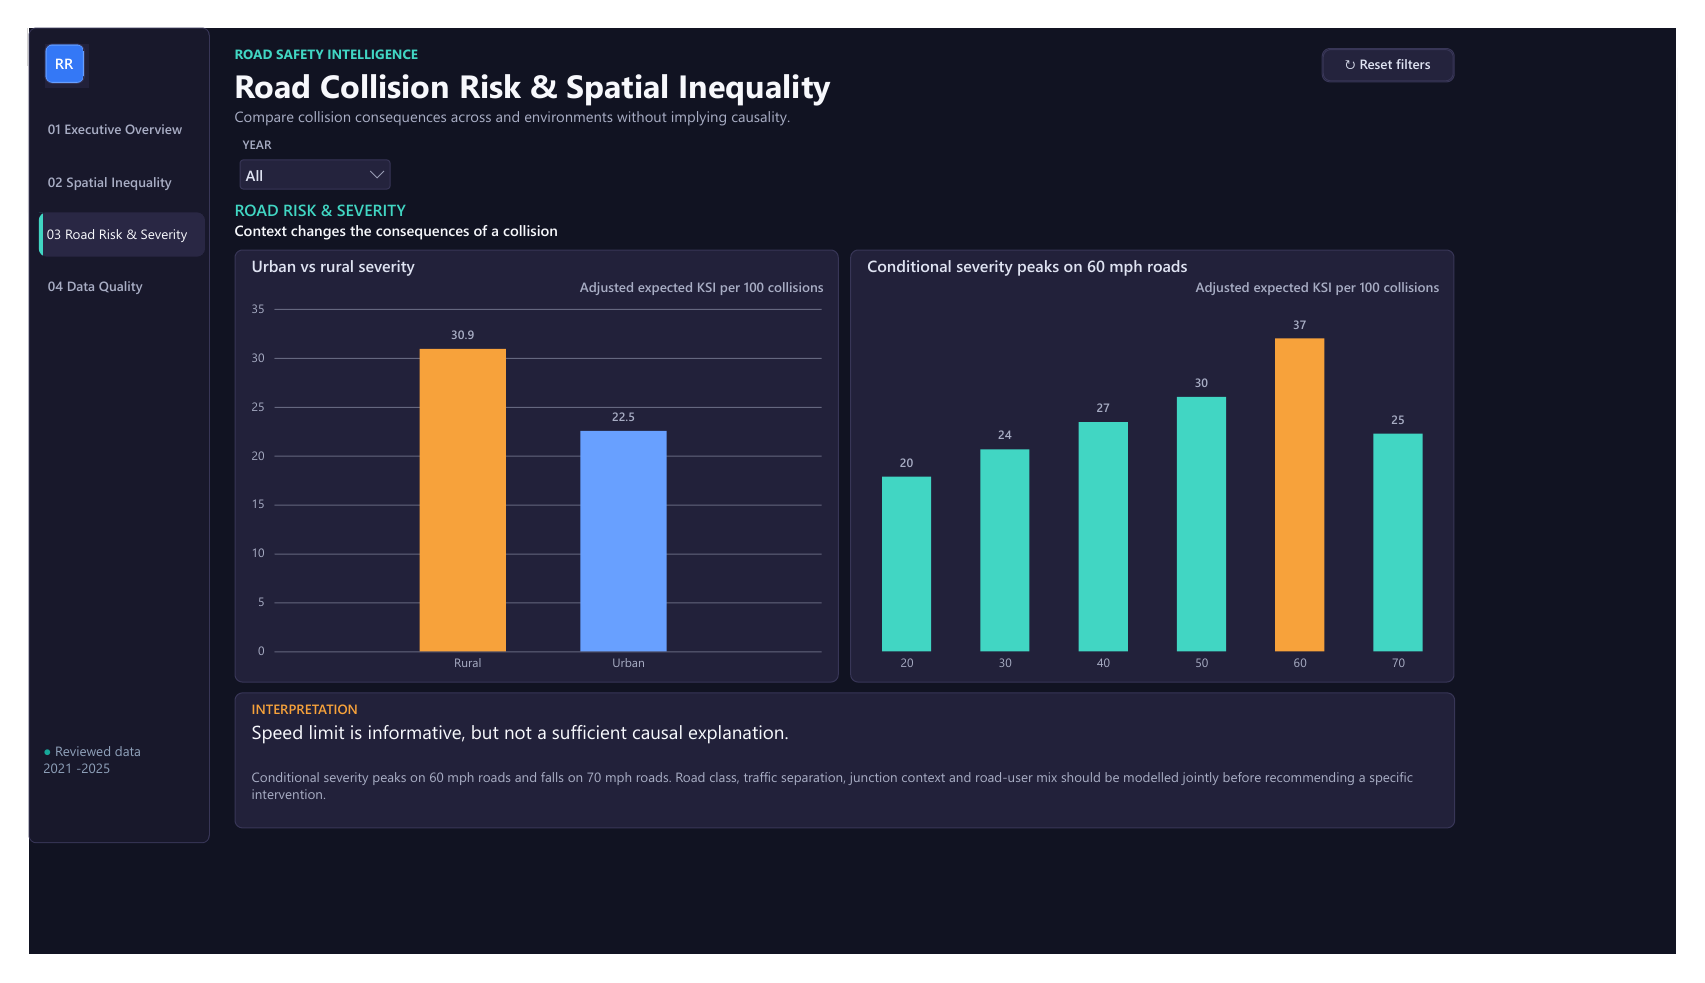

What the dashboard file says about the page in this screenshot:
{"tool":"powerbi","page":{"name":"03 Road Risk & Severity","canvas":[1440,810],"ordinal":2},"visuals":[{"type":"shape","box":[0,0,180,810],"z":0},{"type":"shape","box":[16,16,40,40],"z":1000,"group":"g1"},{"type":"clusteredColumnChart","title":"Urban vs rural severity","fields":{"Category":["fact_collision.urban_or_rural_area_label"],"Y":["_Measures.Adjusted KSI per 100 Collisions"]},"box":[204.5,220.5,600,430],"z":1000},{"type":"textbox","box":[26,26,33.8,34.6],"z":2000,"group":"g1"},{"type":"textbox","box":[15,710,120,50],"z":2000},{"type":"clusteredColumnChart","title":"Conditional severity peaks on 60 mph roads","fields":{"Category":["fact_collision.speed_limit"],"Y":["_Measures.Adjusted KSI per 100 Collisions"]},"box":[815.5,220.5,600,430],"z":3000},{"type":"pageNavigator","box":[10,80,165,200],"z":4000},{"type":"group","id":"g1","title":"Group 7","box":[16,16,43.8,44.6],"z":5000},{"type":"actionButton","title":"Reset filters","box":[1284,20,132,34],"z":6000},{"type":"textbox","box":[204,18,700,85],"z":7000},{"type":"slicer","fields":{"Values":["dim_year.year_label"]},"box":[204,108,160,54],"z":8000},{"type":"textbox","box":[204,170,700,70],"z":9000},{"type":"shape","title":"INTERPRETATION","box":[204,660,1212,135],"z":11000}]}

Visuals, with their boxes in screenshot pixels (x1, y1, x2, y2), scaled from the page's 1440x810 canvas onto the 1705x983 screenshot:
shape: rect(0, 0, 213, 982)
shape: rect(19, 19, 66, 68)
"Urban vs rural severity" clusteredColumnChart: rect(242, 268, 953, 789)
textbox: rect(31, 32, 71, 74)
textbox: rect(18, 862, 160, 922)
"Conditional severity peaks on 60 mph roads" clusteredColumnChart: rect(966, 268, 1676, 789)
pageNavigator: rect(12, 97, 207, 340)
"Group 7" group: rect(19, 19, 71, 74)
"Reset filters" actionButton: rect(1520, 24, 1677, 66)
textbox: rect(242, 22, 1070, 125)
slicer - dim_year.year_label: rect(242, 131, 431, 197)
textbox: rect(242, 206, 1070, 291)
"INTERPRETATION" shape: rect(242, 801, 1677, 965)
